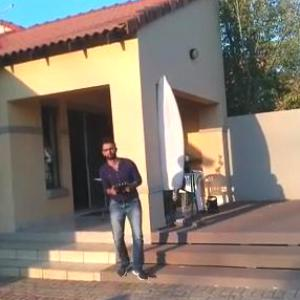follow: (100, 133, 151, 284)
